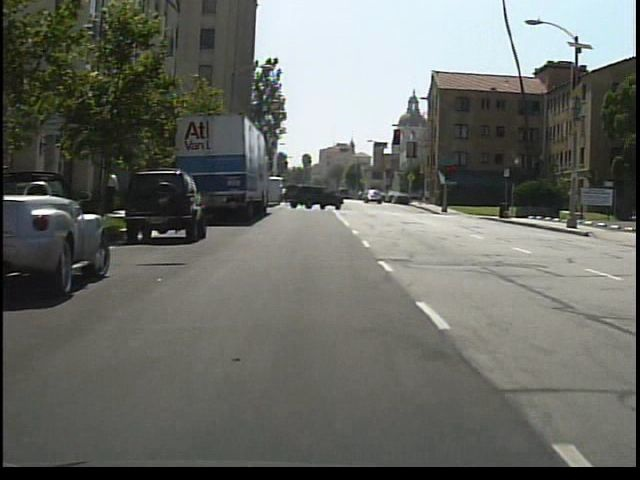person: (105, 162, 127, 215), (417, 188, 426, 210)
